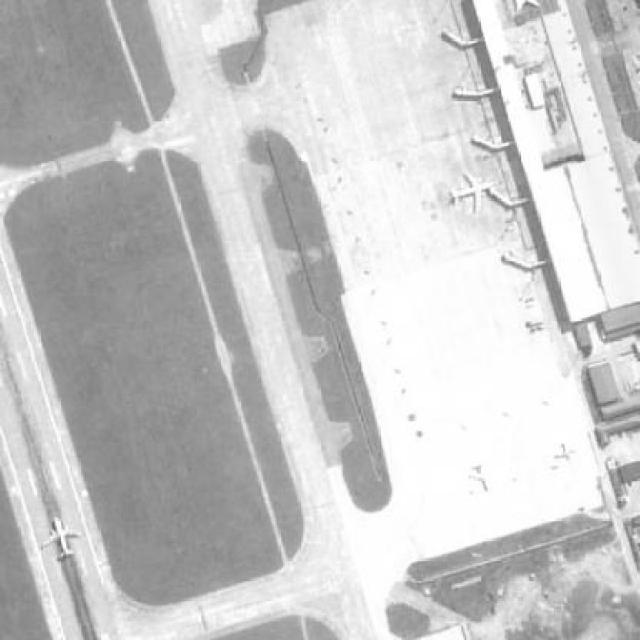airplane: (447, 172, 500, 216), (38, 516, 87, 561), (467, 462, 501, 496)
